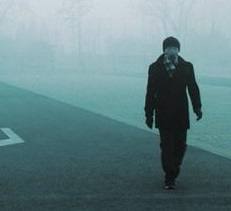person: (142, 34, 205, 191)
